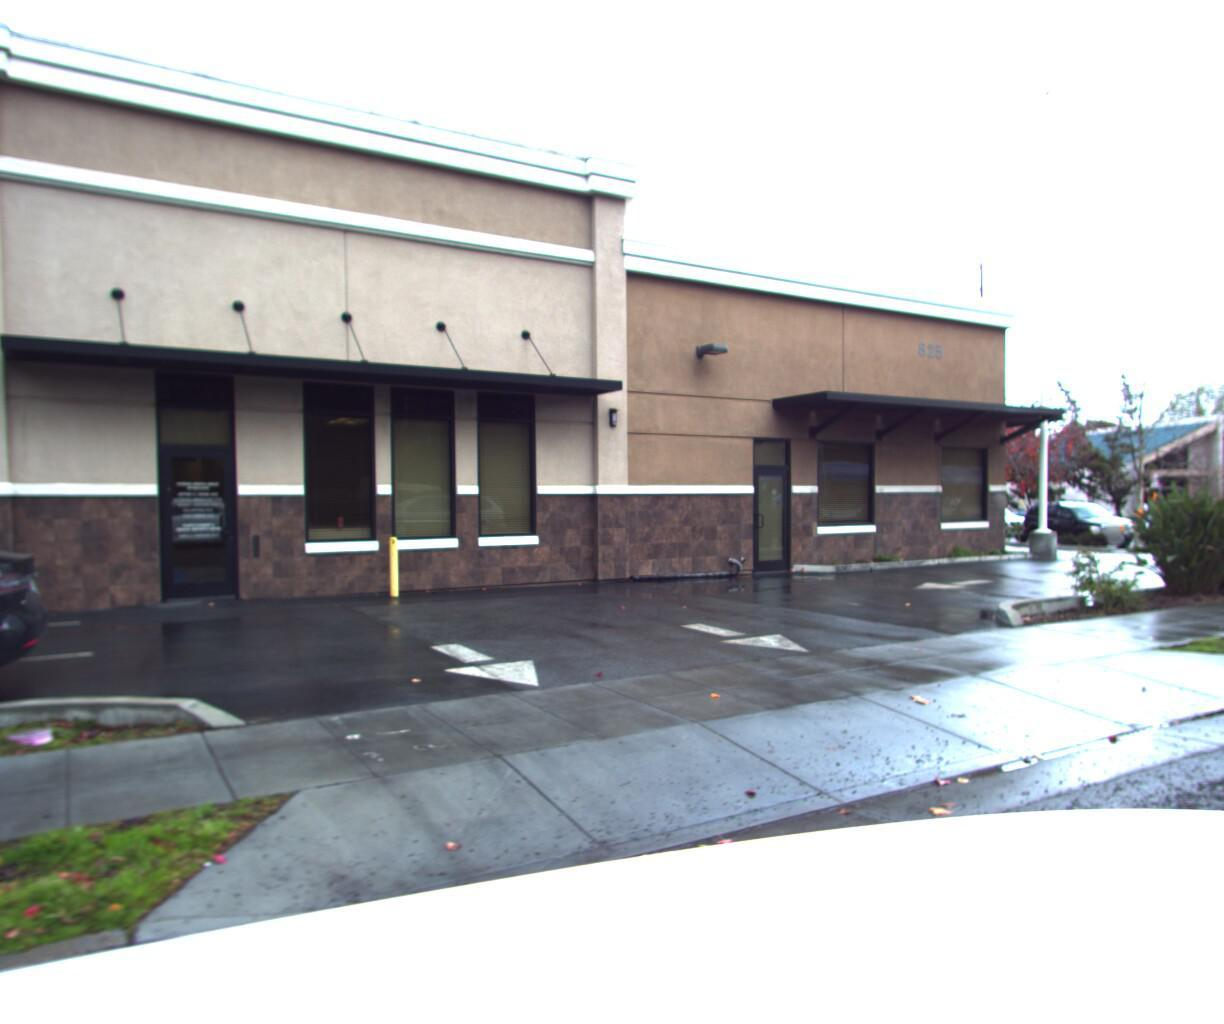car: (0, 509, 68, 857), (1020, 500, 1154, 552), (945, 501, 1043, 548)
